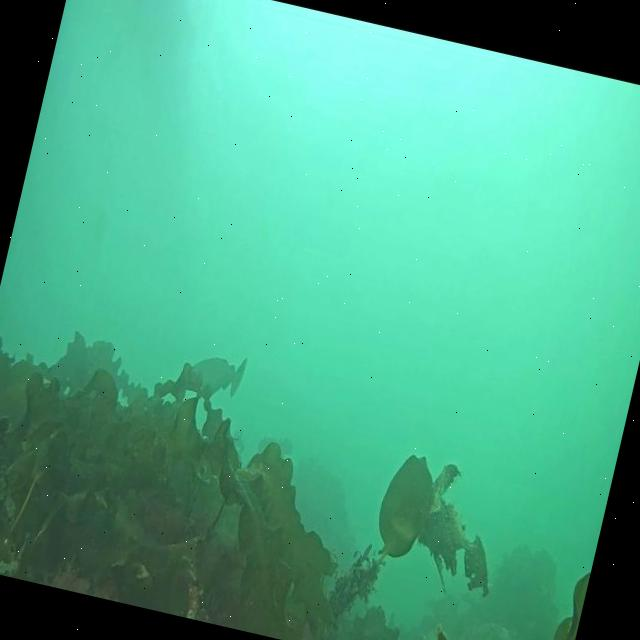fish: (181, 350, 246, 397)
